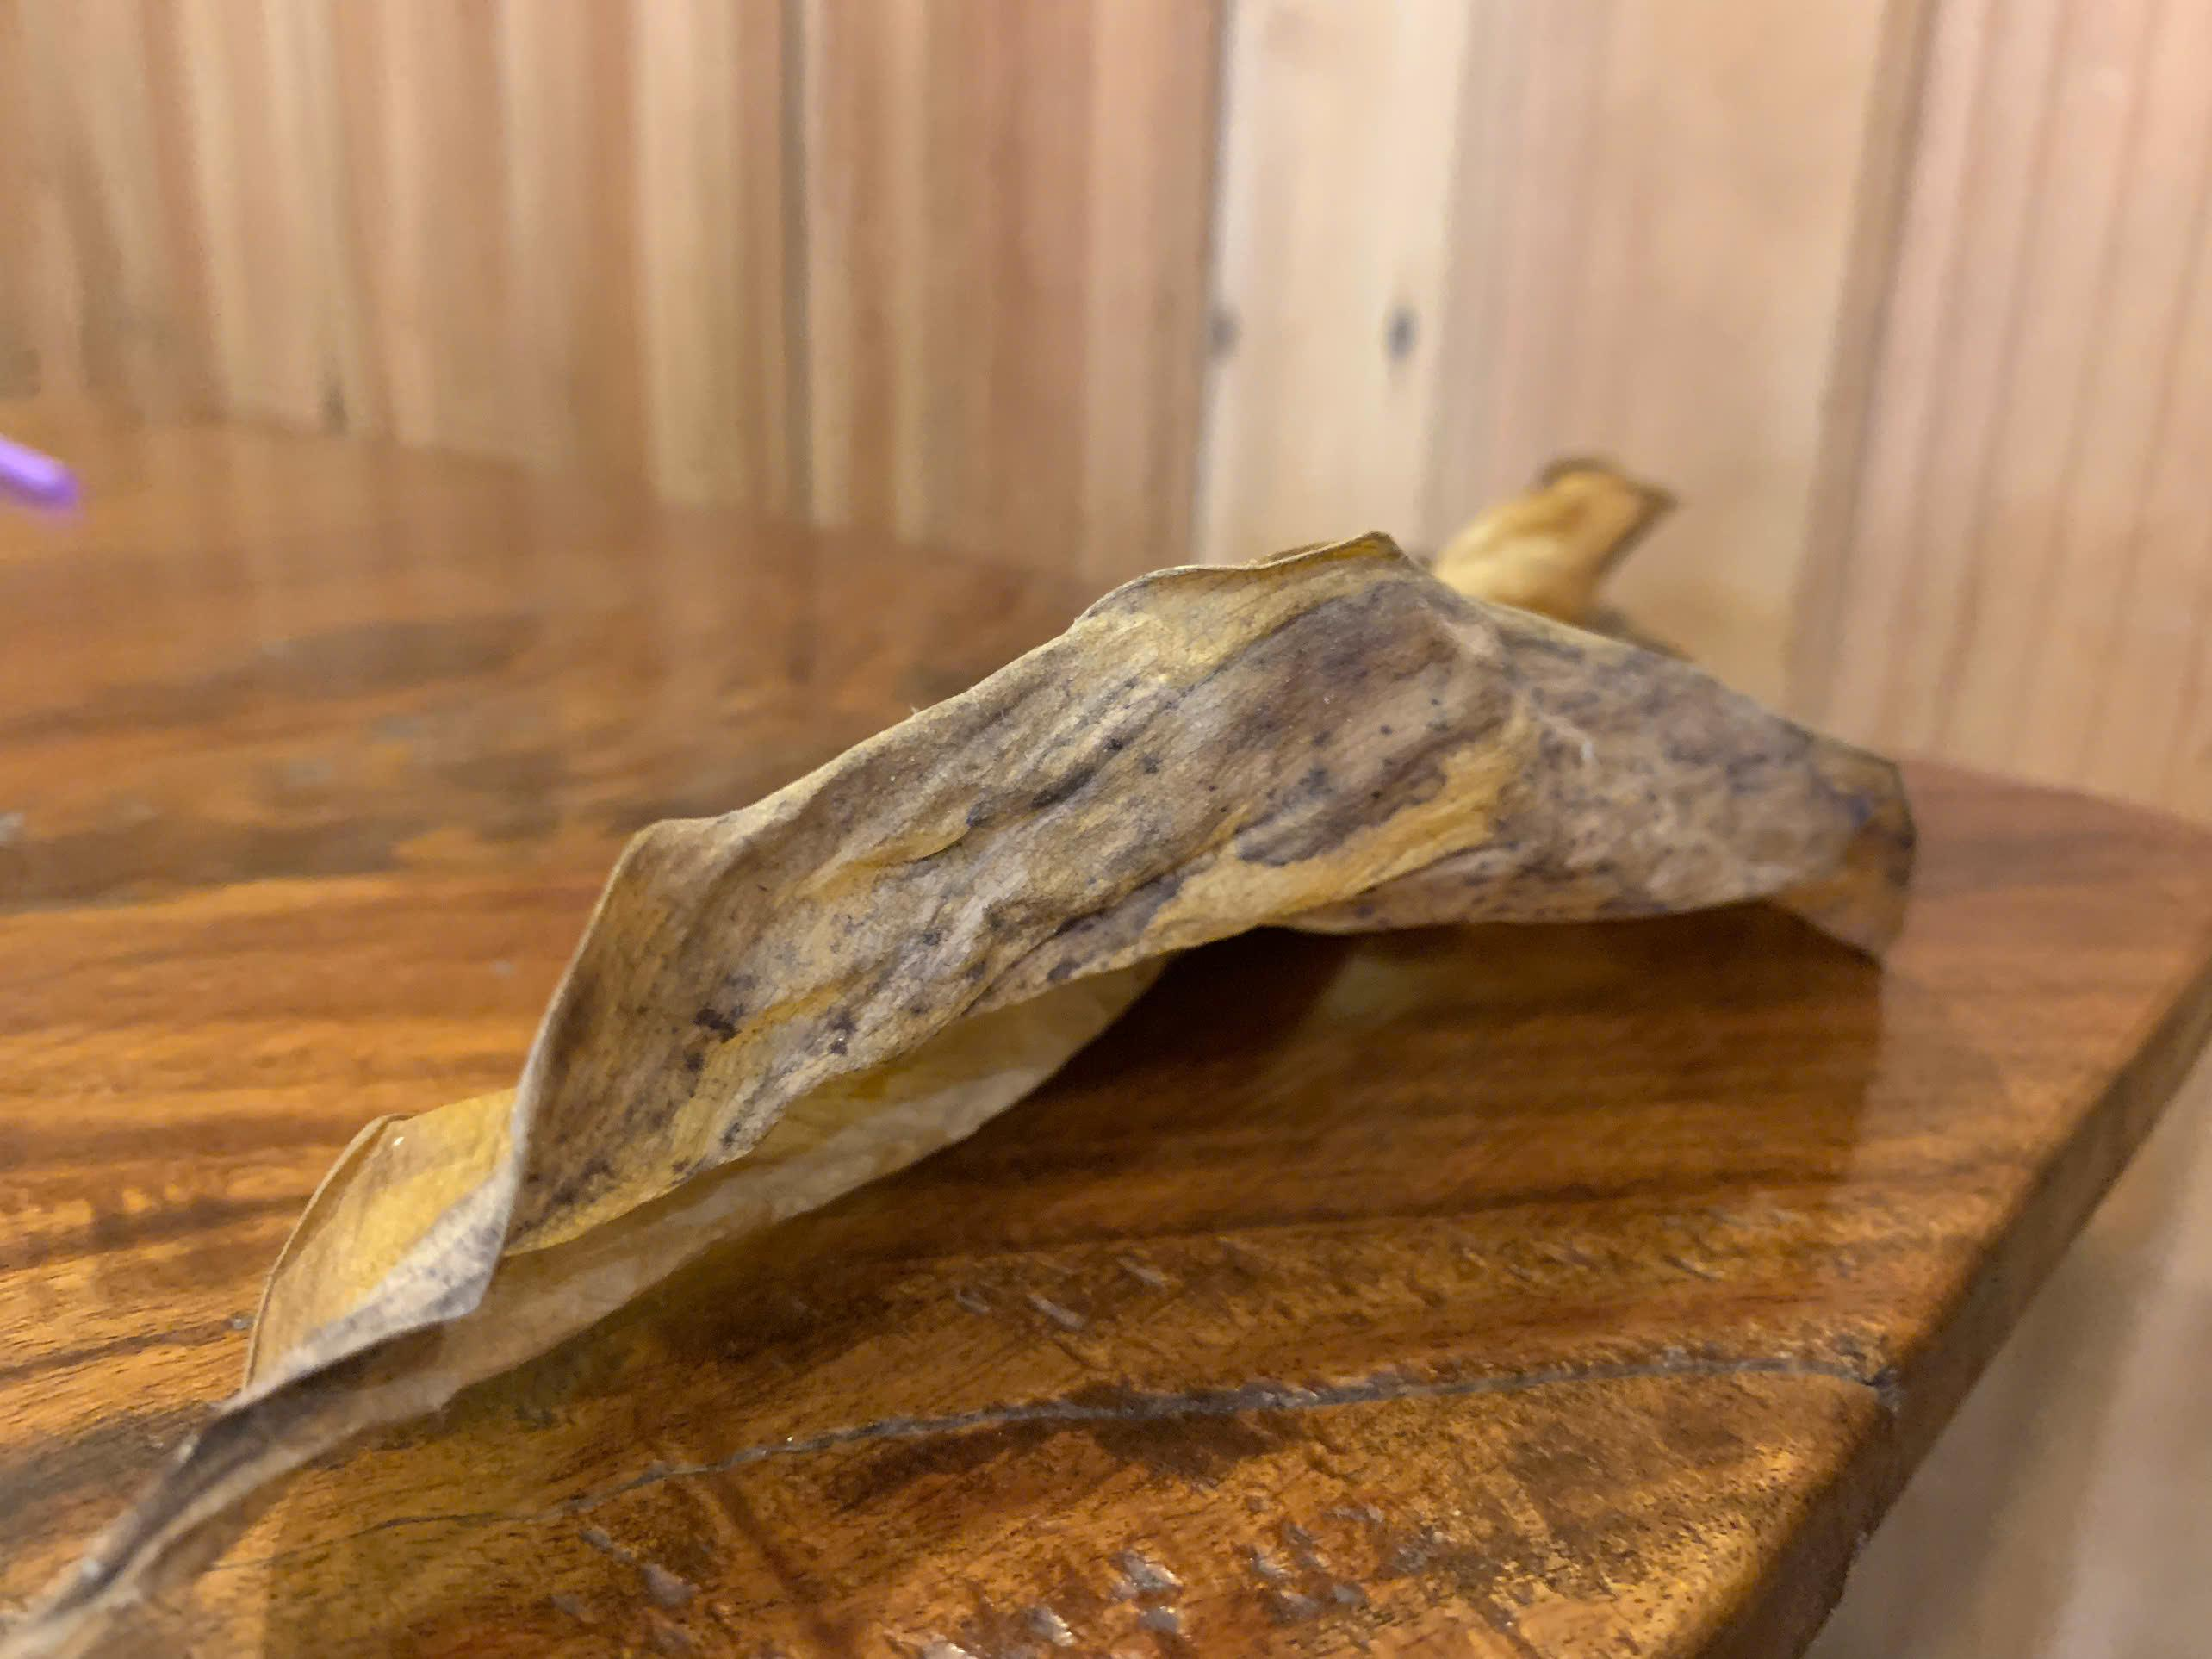Huu co: (155, 554, 1907, 1347)
